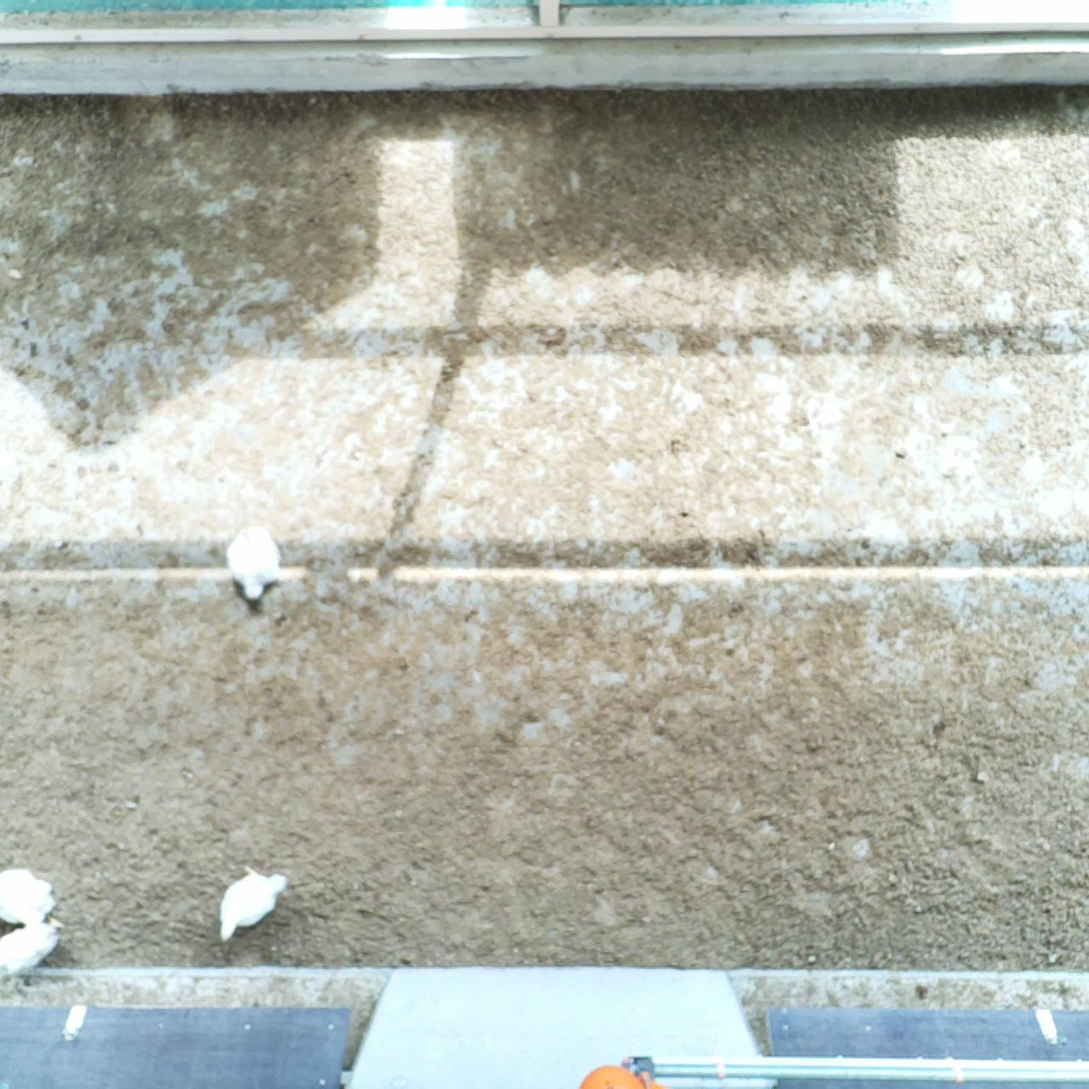chicken: (213, 861, 292, 944), (222, 517, 286, 613), (0, 913, 66, 981), (0, 865, 59, 932)
